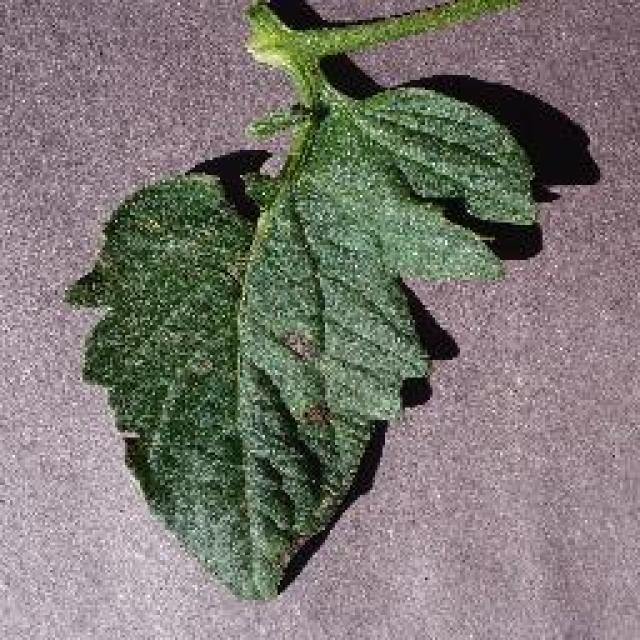Tomato Early blight leaf: (89, 32, 526, 602)
